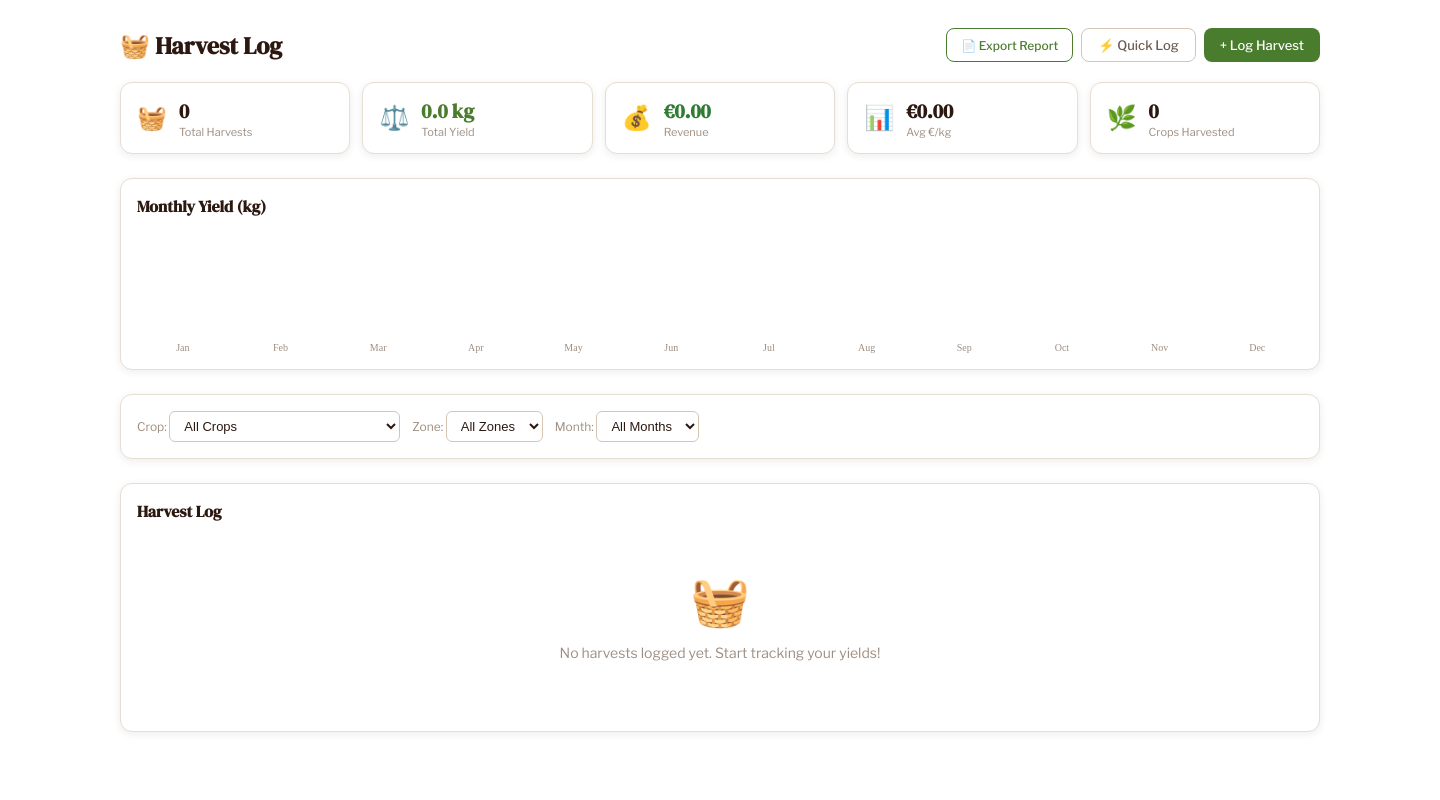
HarvestTab › opens quick log panel
The image size is (1440, 800).
Click the button "⚡ Quick Log" at (1138, 45), box [1081,28,1196,62]
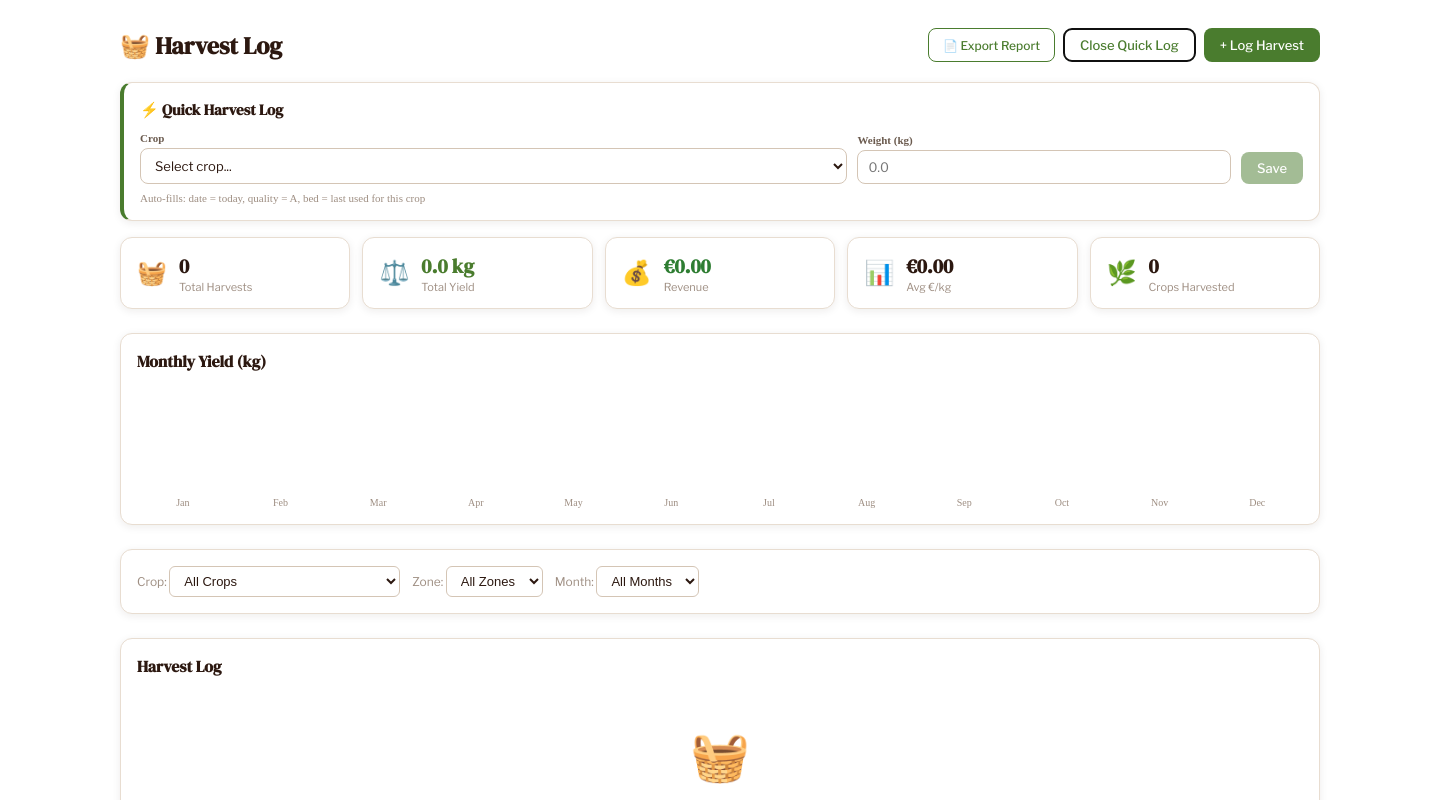
Check: the heading "⚡ Quick Harvest Log" is shown, box [140,99,283,120]
